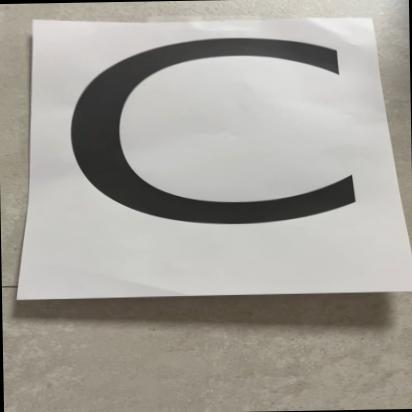seat: (39, 4, 412, 291)
